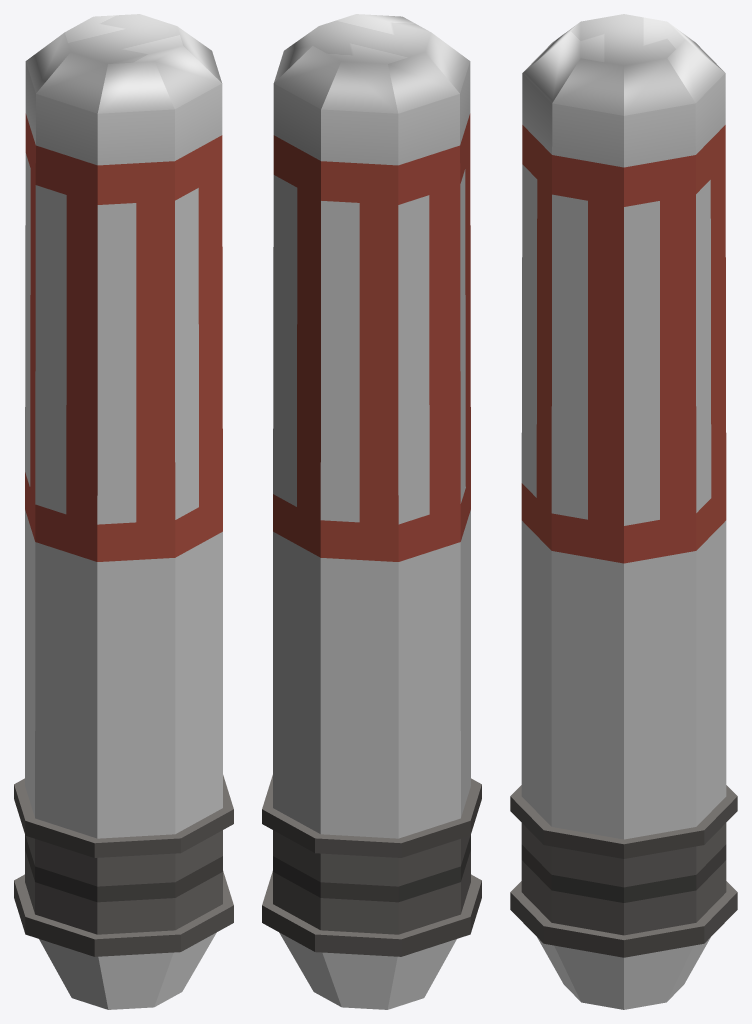
3 views of the same model, side by side, from view 1: azimuth 30°, elevation 25°; view 2: azimuth 150°, elevation 25°; view 3: azimuth 270°, elevation 25° (orthographic).
Parts seen in each view (by area): view 1: SM_Veh_Rocket_20; view 2: SM_Veh_Rocket_20; view 3: SM_Veh_Rocket_20.
Part boxes in pixels (x1,y1,x2,y2): SM_Veh_Rocket_20: (14,14,233,1009); SM_Veh_Rocket_20: (262,14,481,1009); SM_Veh_Rocket_20: (510,14,737,1009).
Bounding box in the file's own units: 3.05 × 13.99 × 3.05.
Materials: 1 (1 with a texture image).
